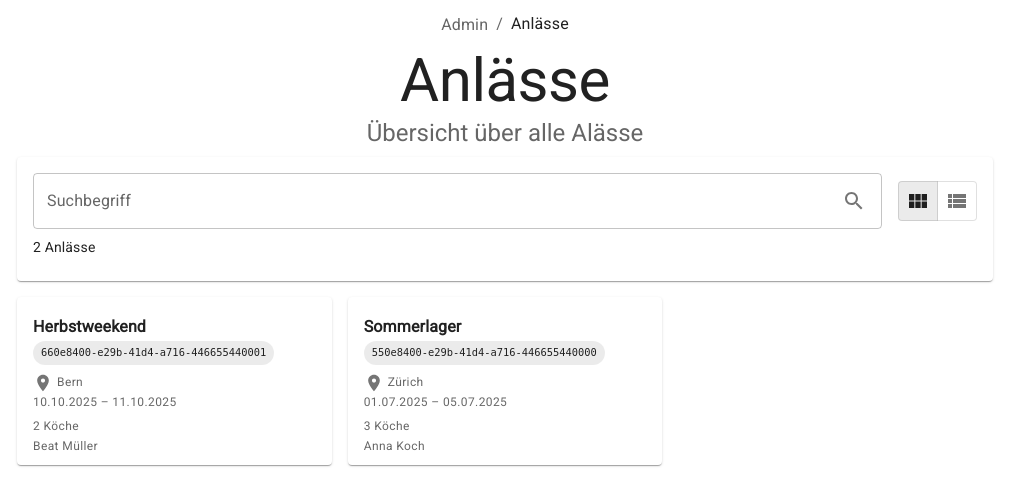
Scenario: 4 – Suche löschen setzt Filter zurück
Expected: the heading "Sommerlager" is shown, x1=364 y1=317 x2=461 y2=336
Type "Herbst" into the field at coordinates (431, 201), box x1=33 y1=173 x2=829 y2=229
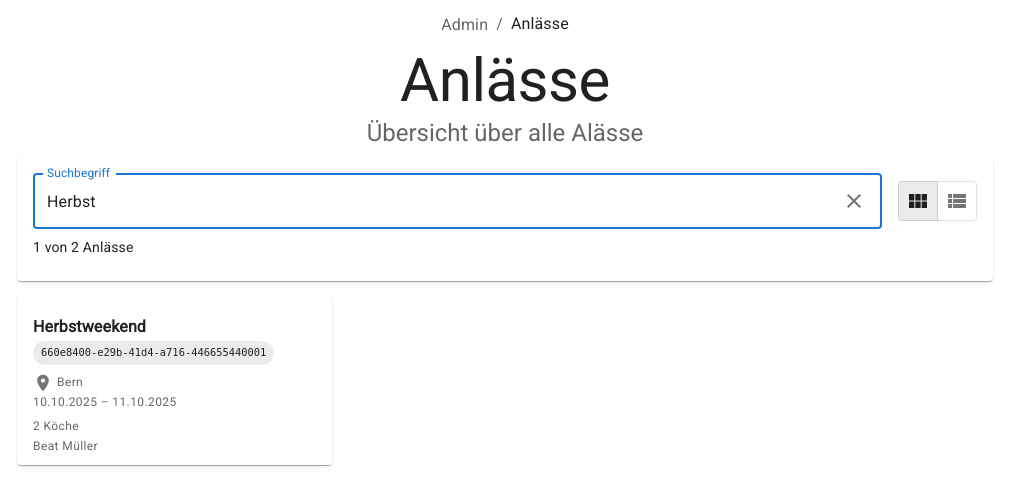
Expected: the button "Sommerlager" is gone
Click the button named "clear search term" at coordinates (854, 201), box x1=837 y1=184 x2=871 y2=218
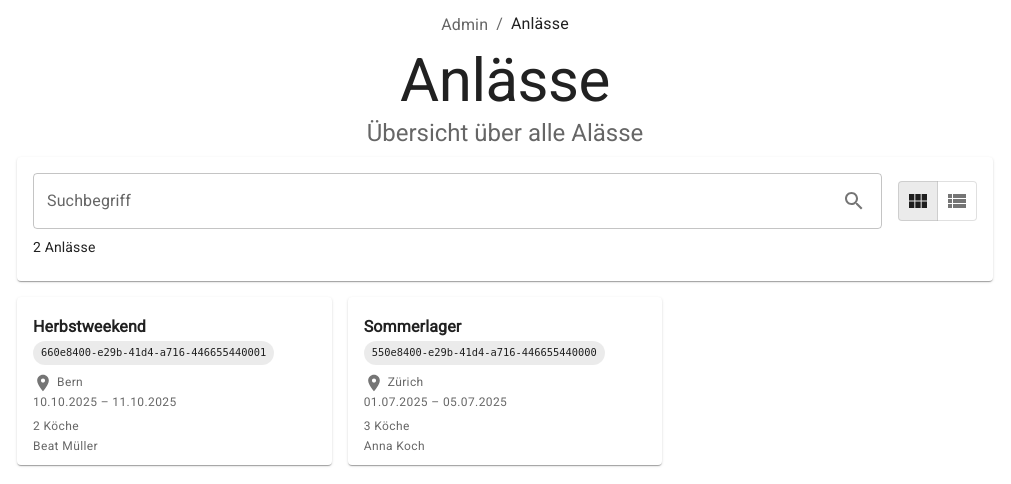
Expected: the heading "Herbstweekend" is shown, x1=33 y1=317 x2=146 y2=336
Expected: the heading "Sommerlager" is shown, x1=364 y1=317 x2=461 y2=336
